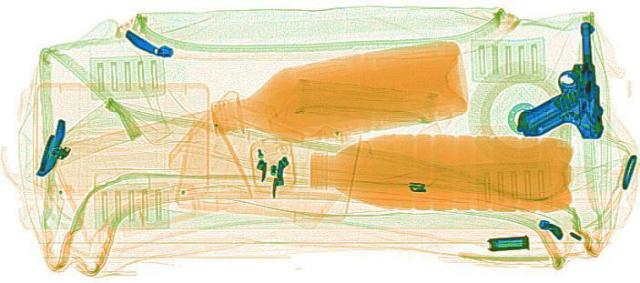Gun: (520, 21, 604, 135)
